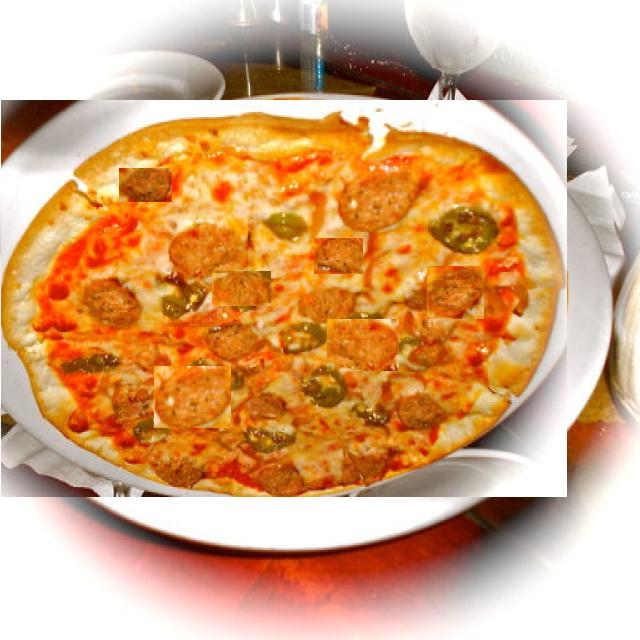pepperoni: (154, 366, 231, 428), (327, 319, 399, 371), (428, 266, 486, 319), (212, 272, 271, 308), (119, 168, 172, 202), (314, 238, 363, 274), (264, 99, 306, 134)
pizza: (1, 100, 567, 497)
